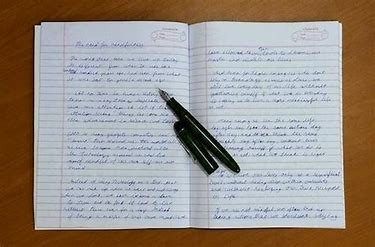pen: (153, 86, 239, 174)
